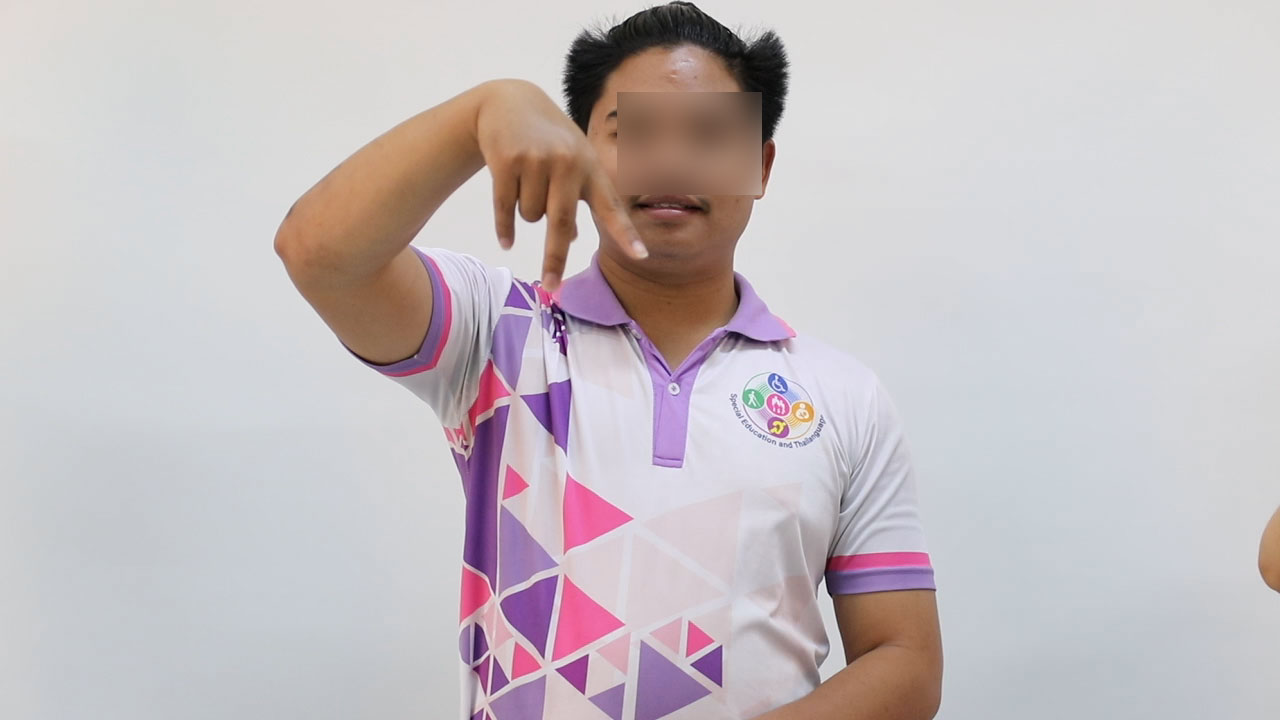por: (460, 69, 655, 299)
